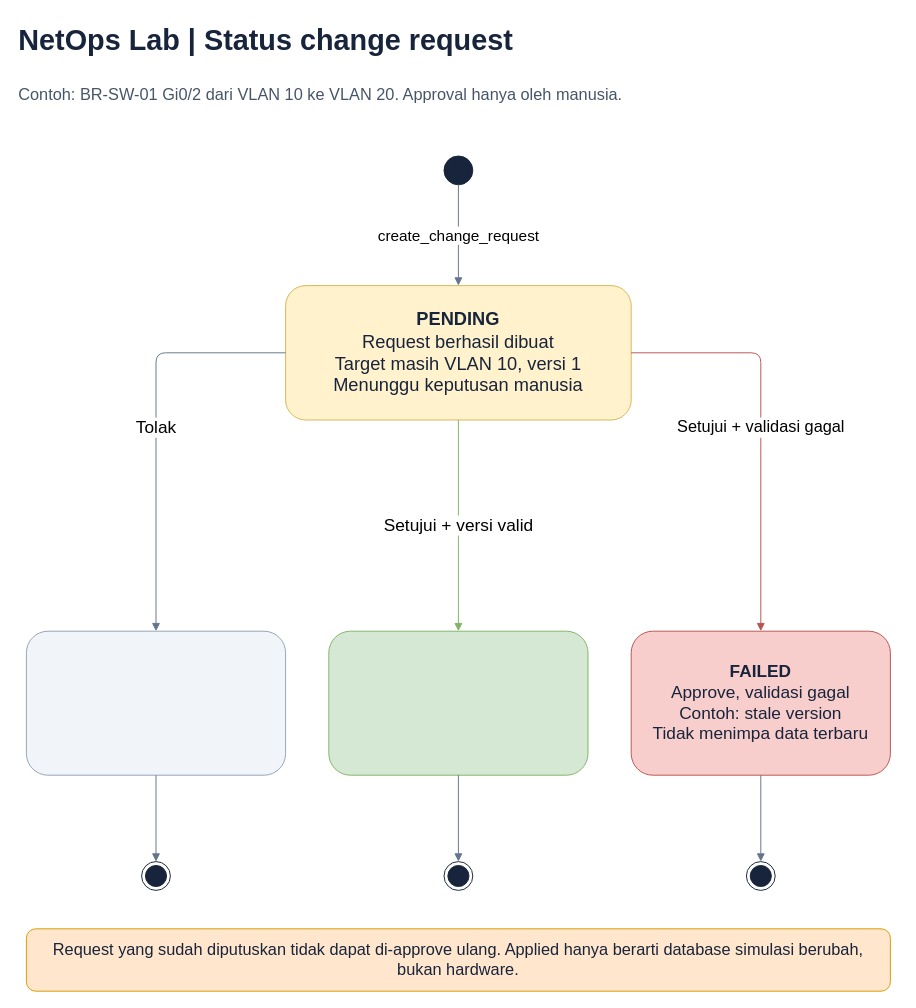
The diagram is 916 pixels wide and 1008 high, and some of its shapes have lost their labels. Here are the shapes that lost their labels. From the top down, the box of each, then its label:
(25, 630, 286, 775): REJECTED Manusia menolak Tidak mengubah target Keputusan dicatat di audit
(328, 630, 588, 775): APPLIED Approve + validasi lulus VLAN 20, versi 2 Transaksi + audit berhasil
